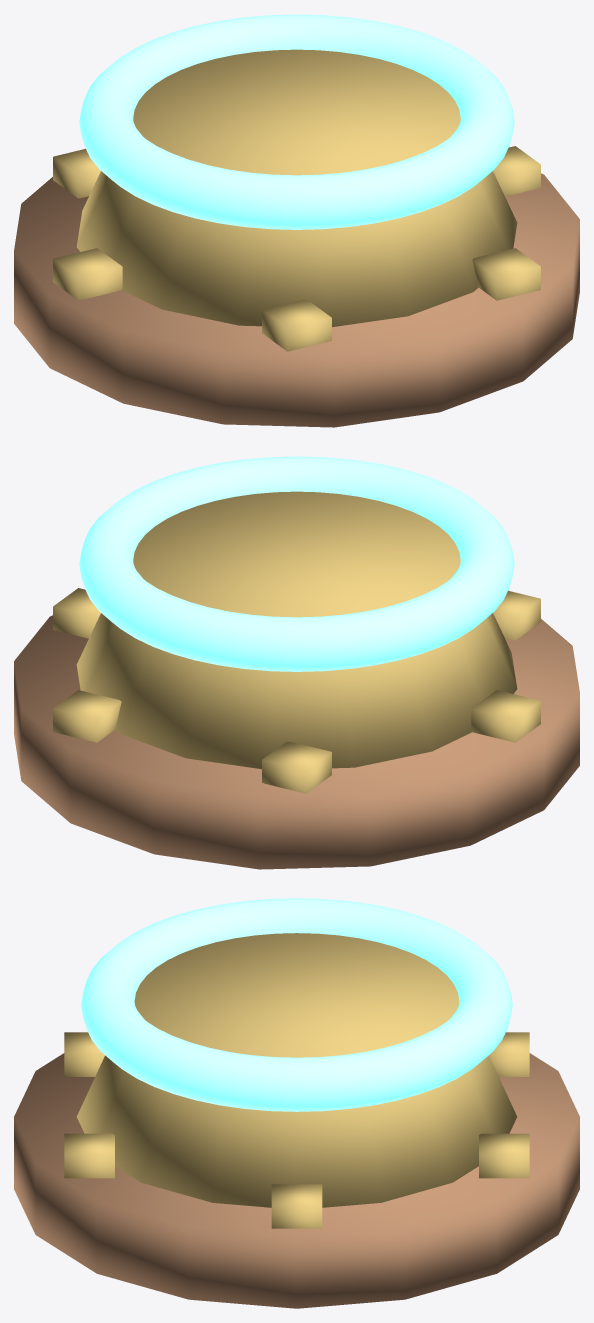
Rendered from hazard-vent.glb.
3 views of the same model, one above another, from view 1: azimuth 30°, elevation 25°; view 2: azimuth 150°, elevation 25°; view 3: azimuth 270°, elevation 25° (orthographic).
Visible parts, largest first — view 1: Cone, Cylinder, Torus, Cube.003, Cube.004, Cube.005, Cube.002, Cube; view 2: Cone, Cylinder, Torus, Cube.003, Cube.002, Cube.001, Cube.004, Cube; view 3: Cone, Cylinder, Torus, Cube.001, Cube.005, Cube, Cube.002, Cube.004.
Boxes of the visible parts, x1,y1,x2,y2 form: Cone: [76, 49, 517, 327]; Cylinder: [14, 173, 579, 427]; Torus: [79, 14, 514, 229]; Cube.003: [53, 248, 122, 300]; Cube.004: [262, 299, 331, 351]; Cube.005: [472, 248, 540, 300]; Cube.002: [53, 148, 100, 198]; Cube: [493, 146, 540, 196]; Cone: [76, 491, 517, 769]; Cylinder: [14, 615, 579, 869]; Torus: [79, 456, 514, 671]; Cube.003: [471, 690, 540, 742]; Cube.002: [262, 741, 331, 793]; Cube.001: [53, 690, 121, 742]; Cube.004: [493, 590, 540, 640]; Cube: [53, 588, 100, 638]; Cone: [76, 933, 517, 1207]; Cylinder: [14, 1053, 579, 1308]; Torus: [81, 898, 512, 1111]; Cube.001: [479, 1133, 529, 1178]; Cube.005: [64, 1133, 114, 1178]; Cube: [271, 1184, 322, 1228]; Cube.002: [489, 1032, 529, 1076]; Cube.004: [64, 1032, 104, 1076].
Bounding box in the file's own units: 1.56 × 0.635 × 1.56.
